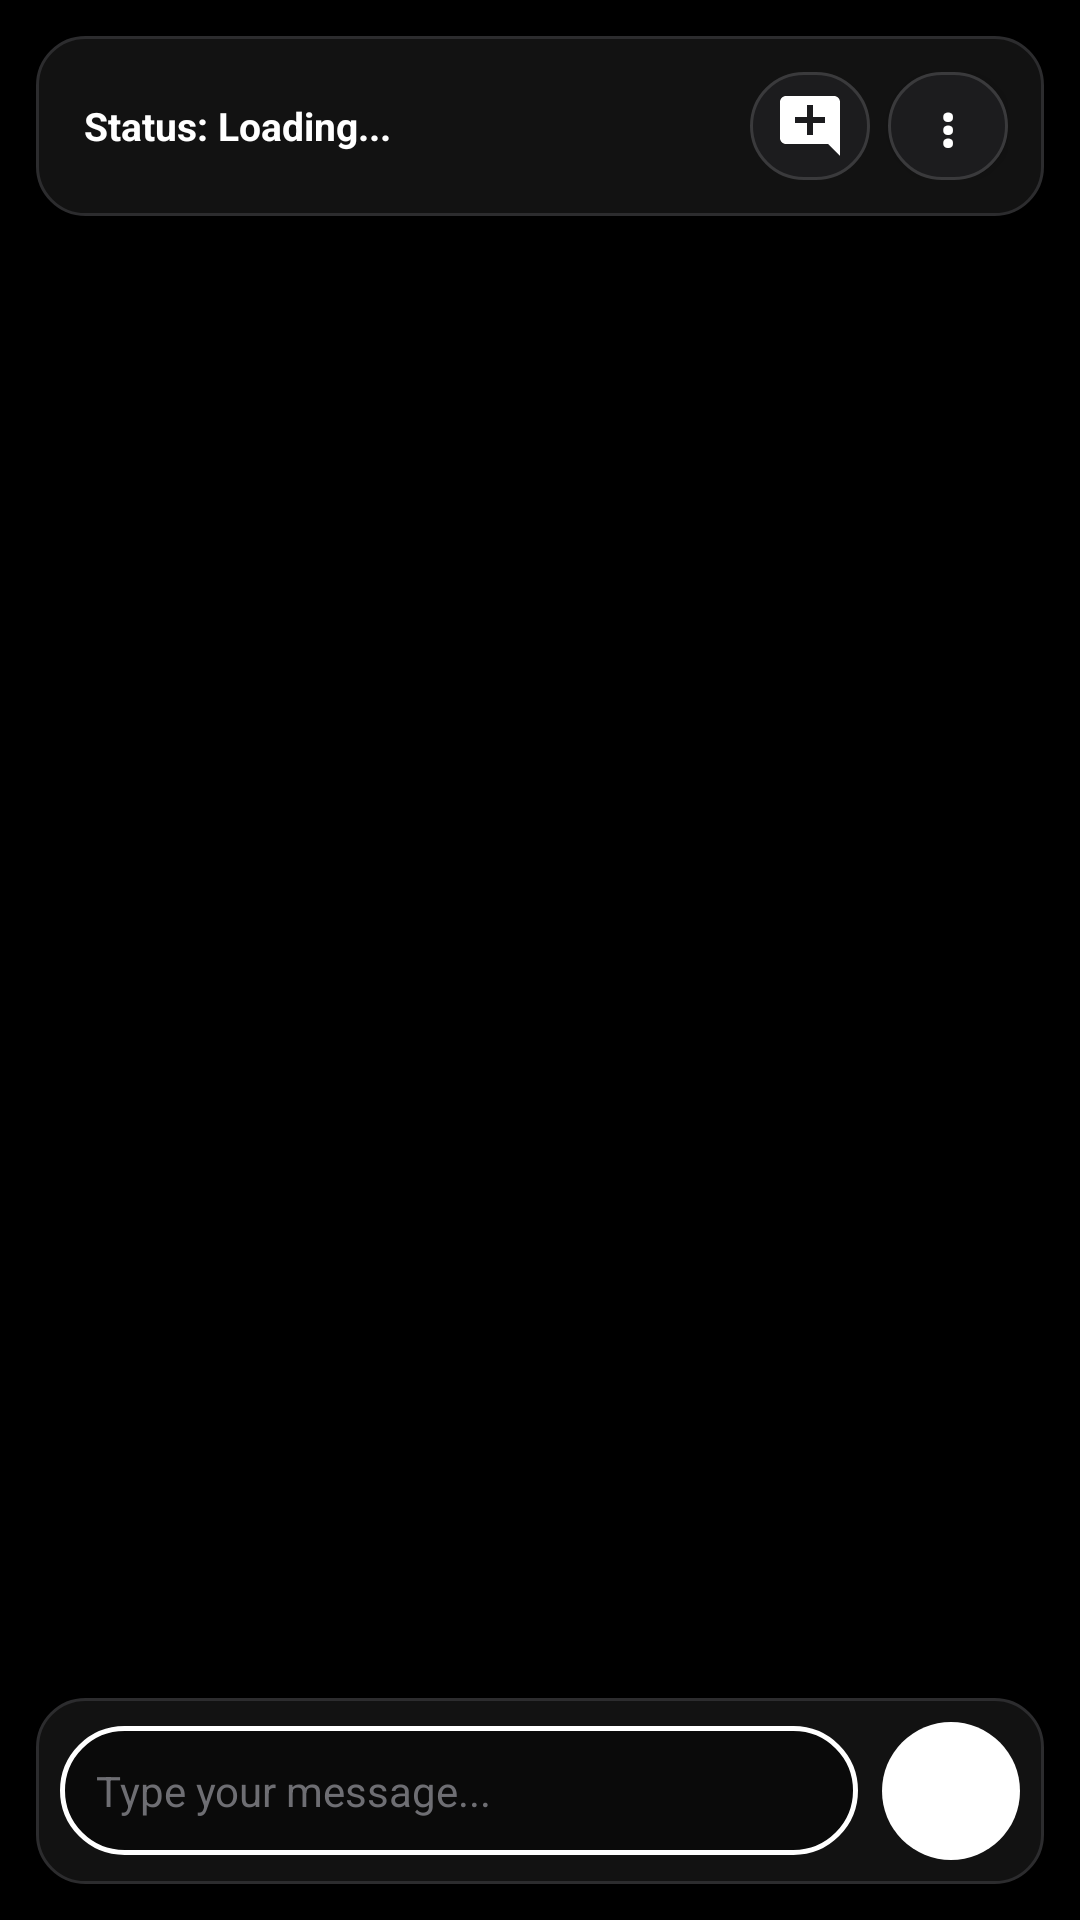

Icon bounding boxes for this 1080x1920 phone screenshot, format bbox=[x1, y1, x2, y2]:
New Chat: bbox=[750, 72, 870, 180]
